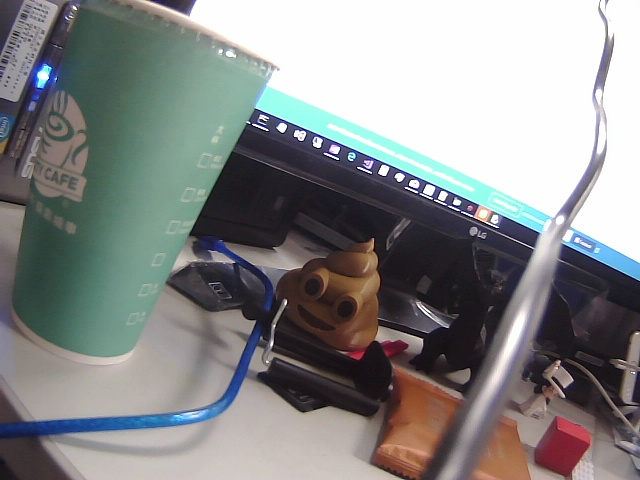beverage: (11, 1, 287, 365)
